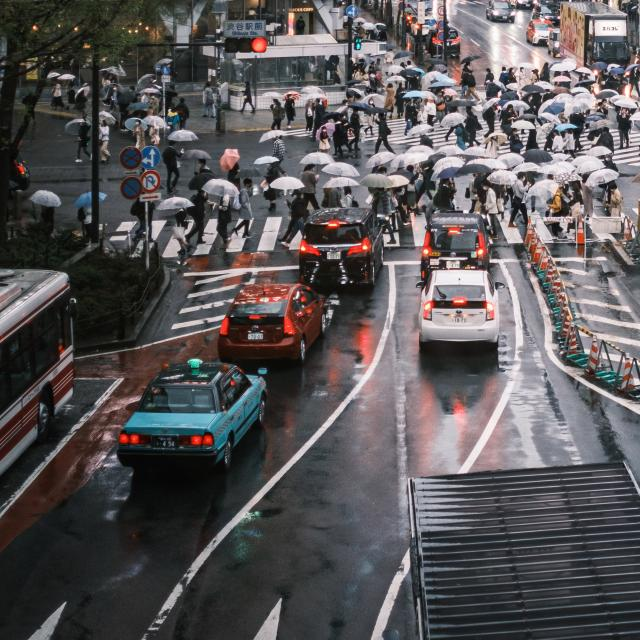bus: (0, 266, 77, 491)
car: (114, 359, 266, 467), (219, 282, 329, 364), (414, 268, 504, 347), (298, 206, 385, 286), (420, 212, 492, 281), (426, 27, 461, 58), (526, 19, 555, 46), (532, 2, 560, 26), (486, 0, 515, 23), (410, 16, 439, 39), (546, 29, 562, 57), (509, 0, 538, 9), (635, 44, 640, 79)
van: (559, 1, 632, 77)
